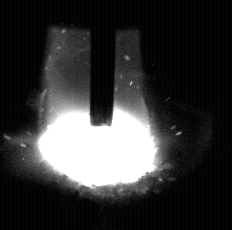arame: (91, 0, 115, 127)
poca: (38, 0, 154, 230)
